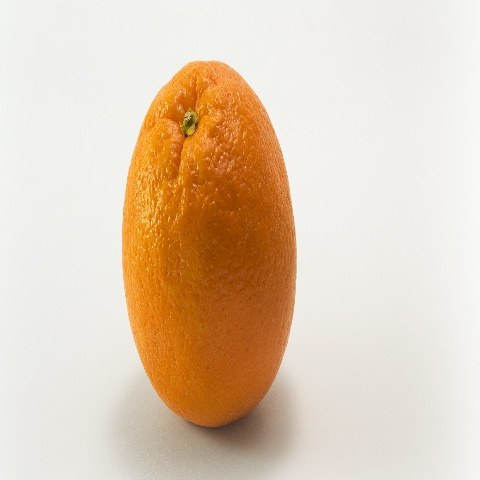orange: (93, 16, 342, 472)
